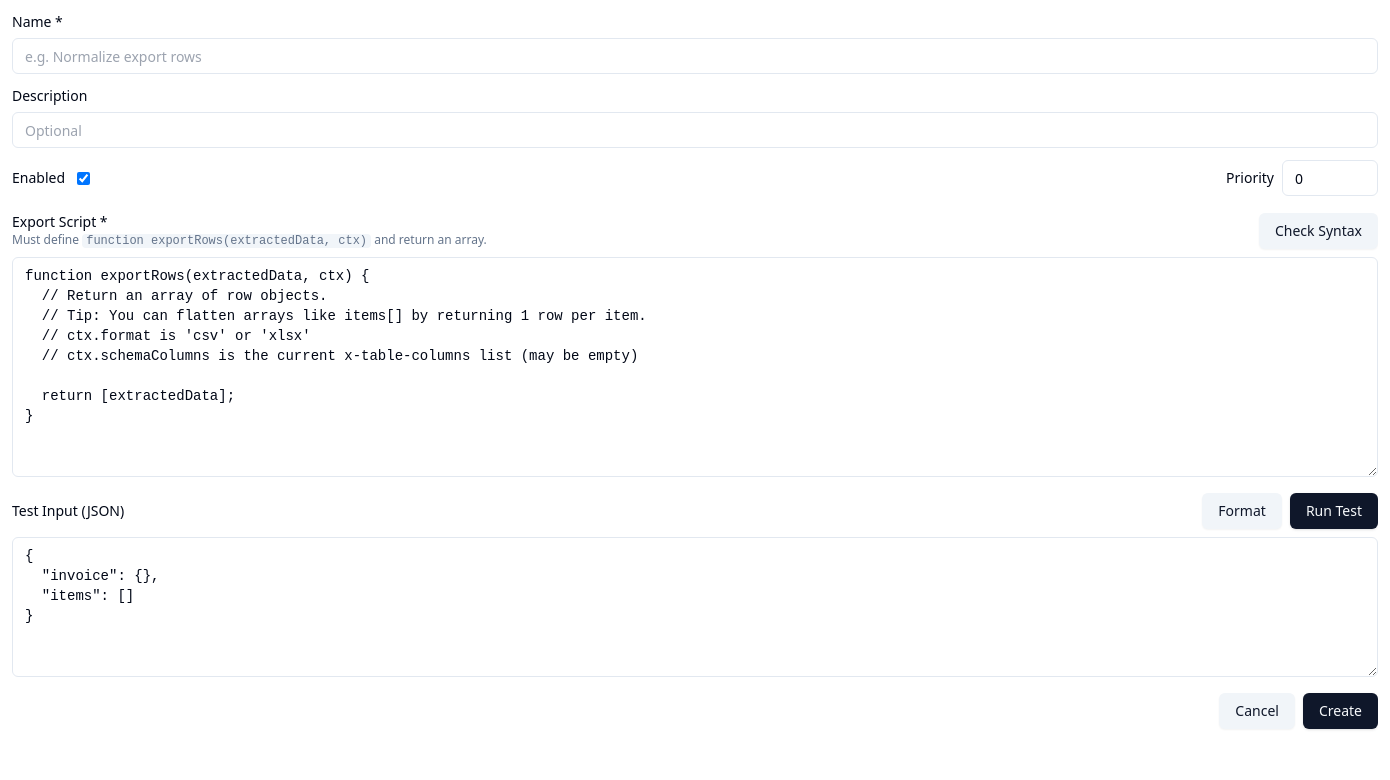
Test: ExportScriptForm › runs test and shows preview and logs
The width and height of the screenshot is (1390, 780).
Click the button "Run Test" at (1334, 511), box [1290,493,1378,529]
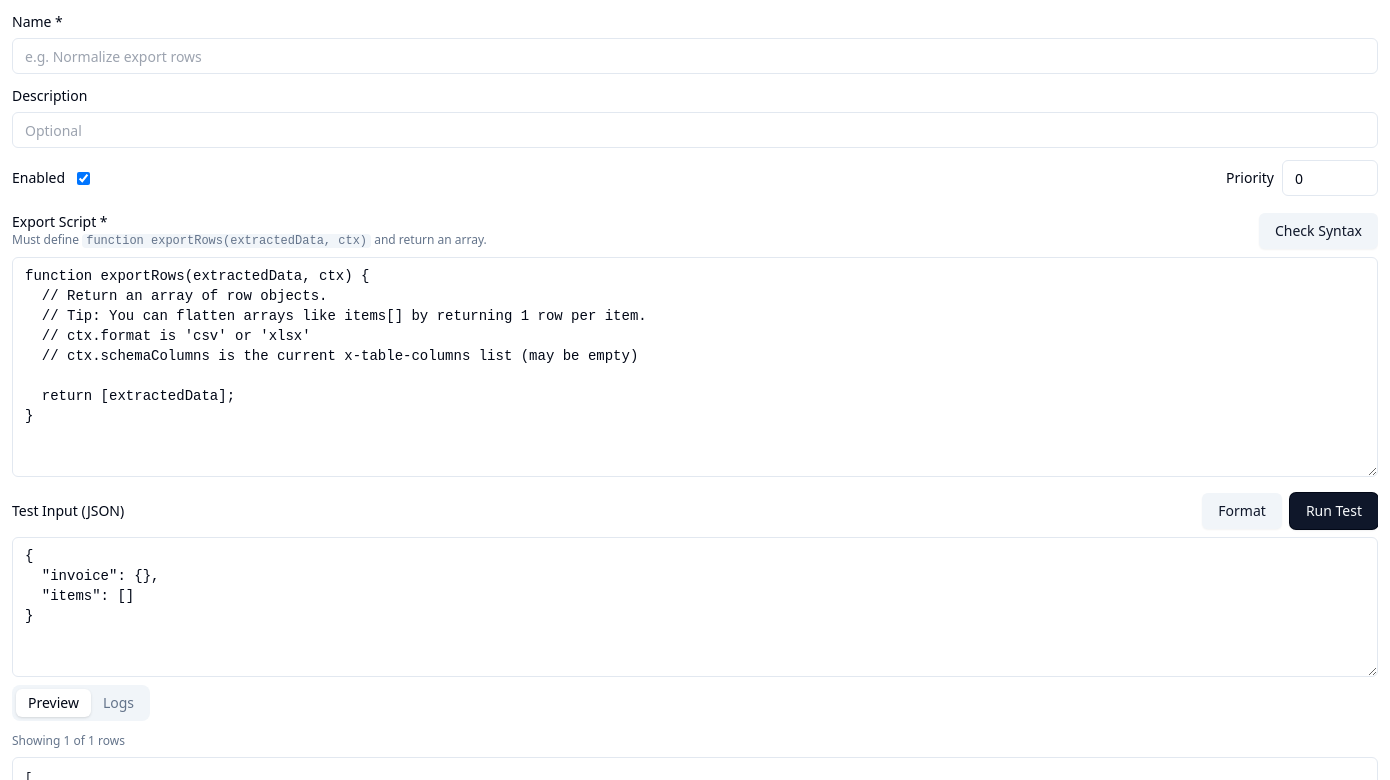
Now the text "Showing 1 of 1 rows" is shown, box [12,732,125,749]
Click the tab "Logs" at (118, 703), box [91,689,146,717]
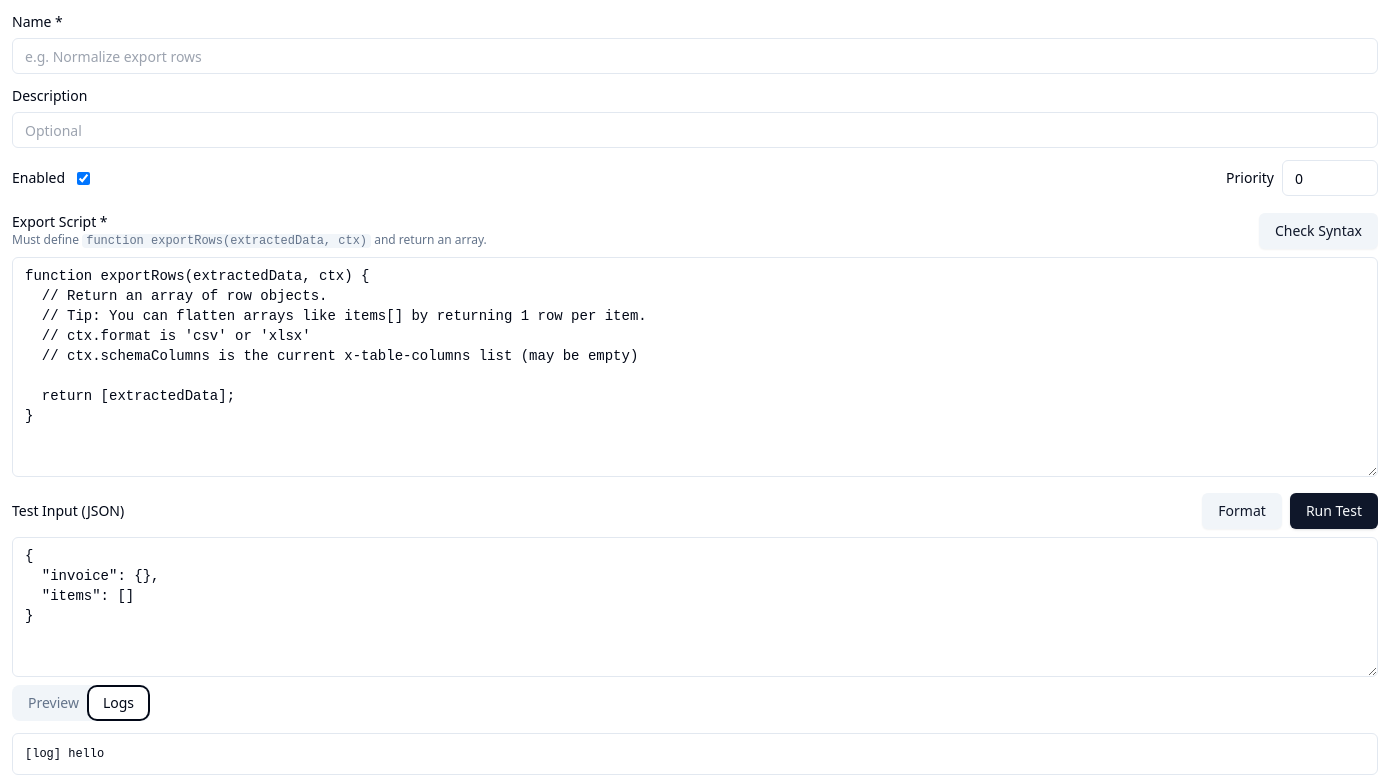
Now the text "[log] hello" is shown, box [12,733,1378,775]
